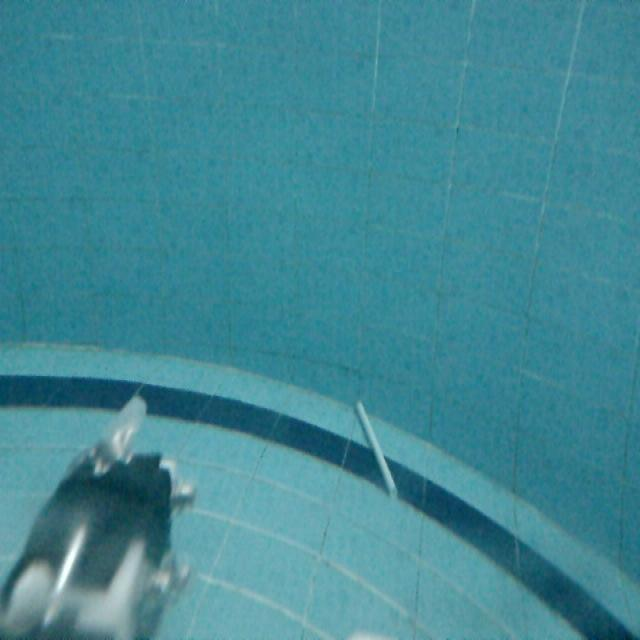Cube: (344, 394, 406, 506)
